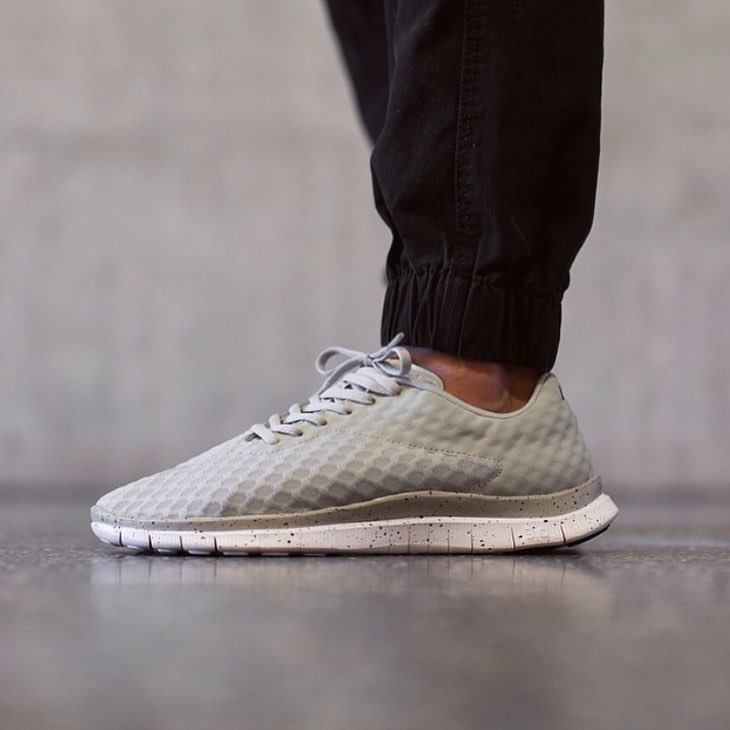sneaker: (61, 322, 644, 569)
